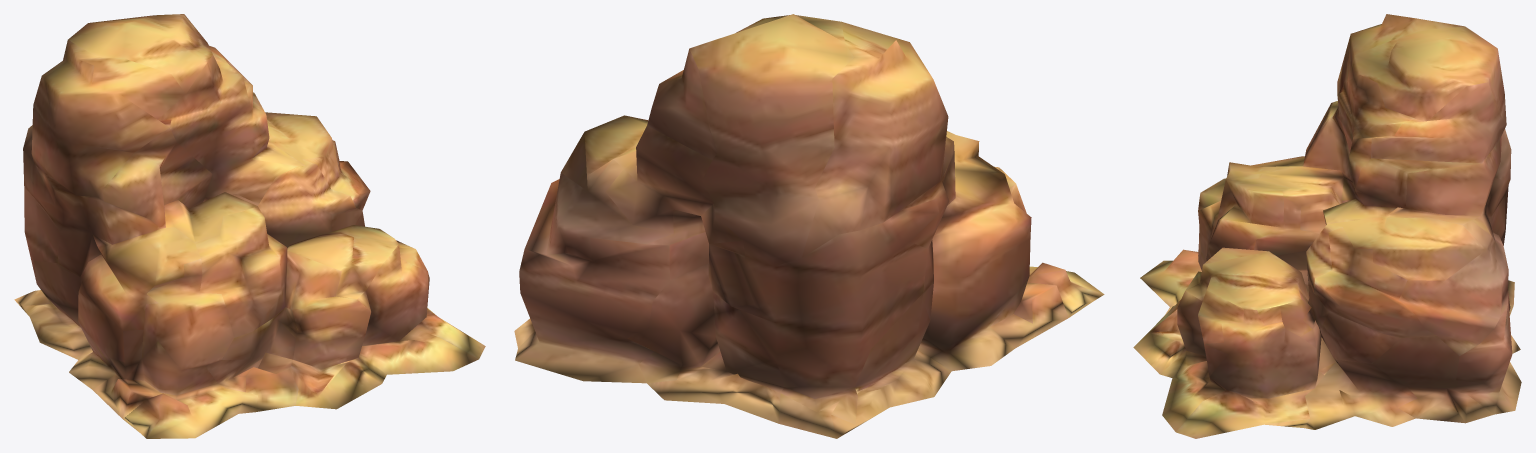
File: rock.glb
The picture shows the model from 3 angles, left to right: view 1: azimuth 30°, elevation 25°; view 2: azimuth 150°, elevation 25°; view 3: azimuth 270°, elevation 25°; orthographic projection. The views are drawn at different scales.
Parts seen in each view (by area): view 1: tripo_node_6864b088-a1f1-472c-afac-5d2460127ea0; view 2: tripo_node_6864b088-a1f1-472c-afac-5d2460127ea0; view 3: tripo_node_6864b088-a1f1-472c-afac-5d2460127ea0.
Boxes of the visible parts, <box> form: tripo_node_6864b088-a1f1-472c-afac-5d2460127ea0: <box>14,14,485,438</box>; tripo_node_6864b088-a1f1-472c-afac-5d2460127ea0: <box>514,14,1104,438</box>; tripo_node_6864b088-a1f1-472c-afac-5d2460127ea0: <box>1133,14,1521,438</box>.
Size of the model in its own units: 0.9878 by 0.7647 by 0.9393.
Materials: 1 (1 with a texture image).
